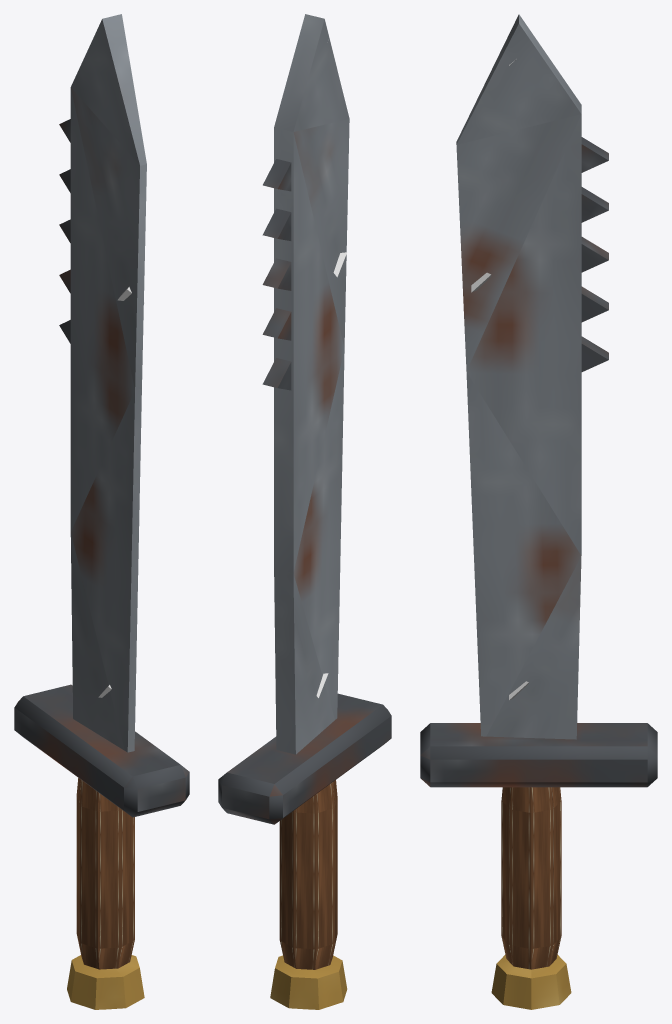
Rendered from SM_Sword.fbx.
The picture shows the model from 3 angles, left to right: view 1: azimuth 30°, elevation 25°; view 2: azimuth 150°, elevation 25°; view 3: azimuth 270°, elevation 25°; orthographic projection.
Parts seen in each view (by area): view 1: SM_Sword; view 2: SM_Sword; view 3: SM_Sword.
Part boxes in pixels (box(x1,y1,x2,y2)): SM_Sword: box(14, 14, 189, 1009); SM_Sword: box(218, 14, 391, 1009); SM_Sword: box(420, 14, 657, 1009).
Bounding box in the file's own units: 0.32 × 4.37 × 0.95.
1 material, 1 textured.
